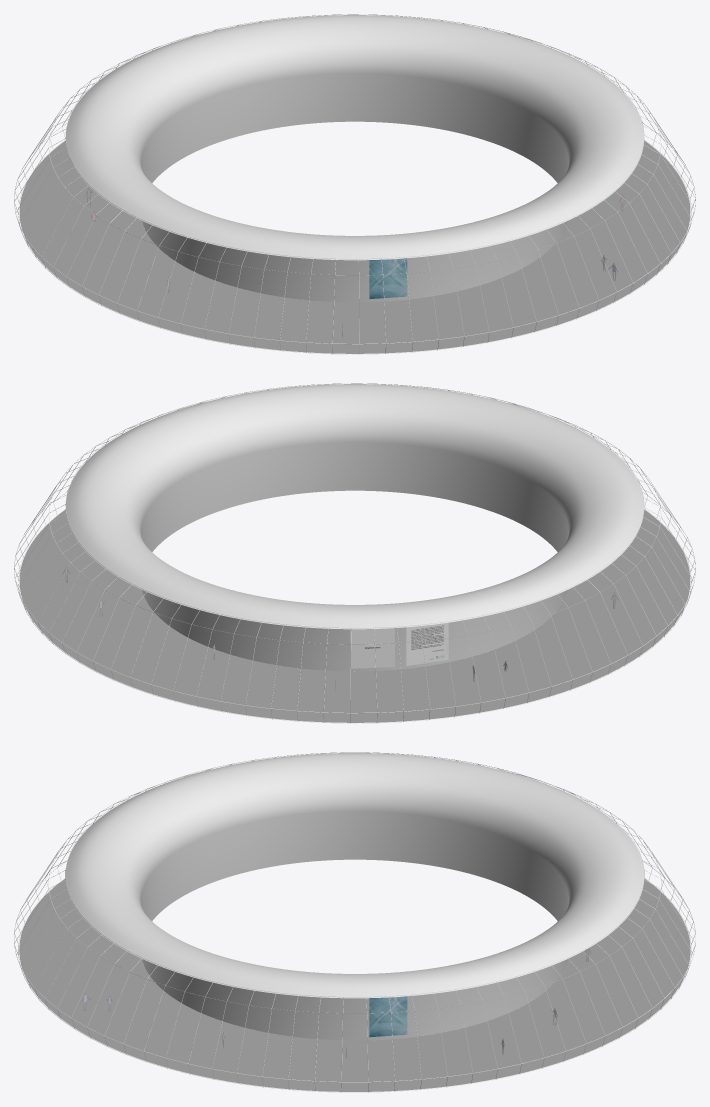
The model's file is 210318_ring.glb.
The picture shows the model from 3 angles, top to bottom: view 1: azimuth 30°, elevation 25°; view 2: azimuth 150°, elevation 25°; view 3: azimuth 270°, elevation 25°; orthographic projection.
Visible parts, largest first — view 1: roof, floor, window, Plane.009; view 2: roof, floor, window, Plane.007, Plane.008; view 3: roof, floor, window, Plane.006.
Part boxes in pixels (box(x1,y1,x2,y2)): roof: box(65, 15, 644, 302); floor: box(19, 140, 690, 353); window: box(14, 14, 695, 354); Plane.009: box(369, 258, 407, 298); roof: box(65, 384, 644, 671); floor: box(19, 509, 690, 722); window: box(14, 383, 695, 723); Plane.007: box(350, 628, 394, 668); Plane.008: box(406, 622, 448, 665); roof: box(65, 753, 644, 1040); floor: box(19, 879, 690, 1091); window: box(14, 752, 695, 1092); Plane.006: box(369, 996, 407, 1037).
Bounding box in the file's own units: 57.44 × 7.6 × 57.44.
Materials: 8 (4 with a texture image).
